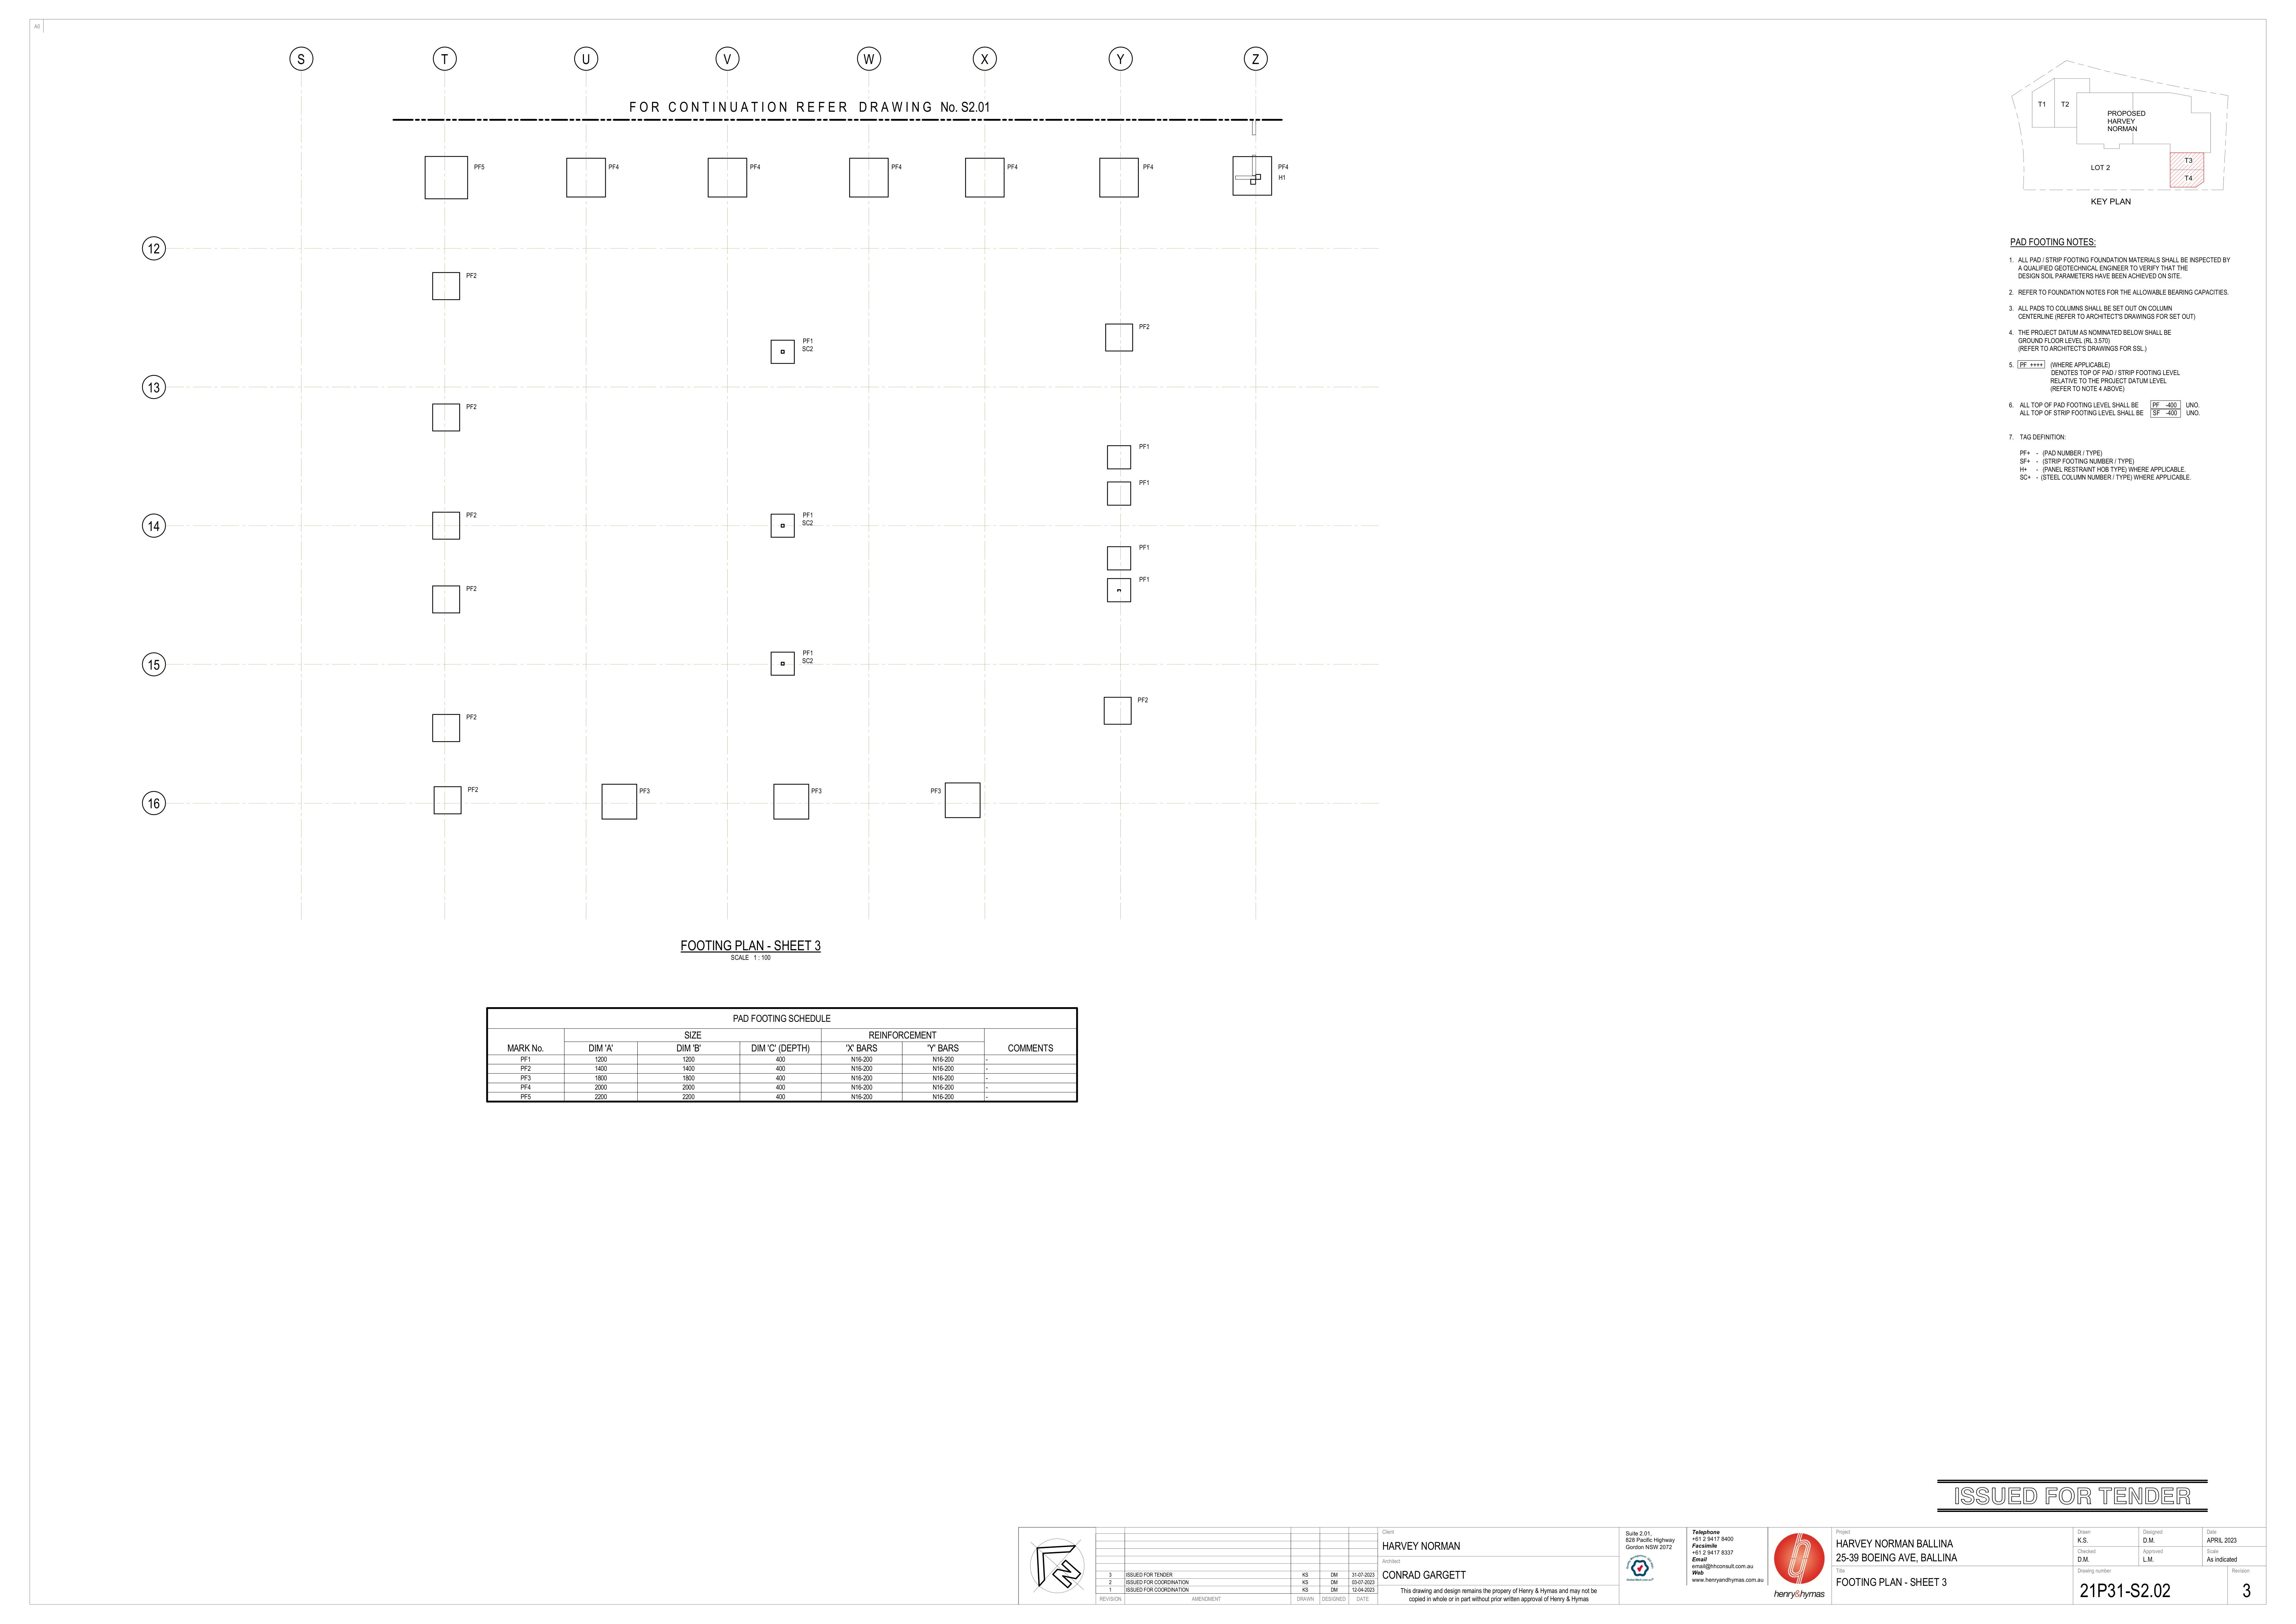PF1: (1132, 438, 1152, 452), (1136, 573, 1153, 587), (1137, 475, 1152, 489), (802, 506, 816, 518), (800, 332, 814, 344), (1137, 541, 1152, 554), (800, 647, 816, 657)
PF2: (1136, 316, 1157, 332), (1137, 694, 1153, 708), (462, 269, 482, 279), (462, 399, 478, 411), (466, 786, 482, 796), (461, 584, 478, 592), (466, 508, 478, 520), (466, 712, 478, 724)
PF3: (923, 782, 944, 796), (636, 782, 656, 794), (810, 784, 825, 794)
PF4: (1004, 160, 1021, 174), (749, 158, 763, 174), (888, 158, 904, 172), (1143, 160, 1159, 172), (1276, 160, 1294, 170), (605, 163, 621, 174)
PF5: (469, 156, 489, 170)
